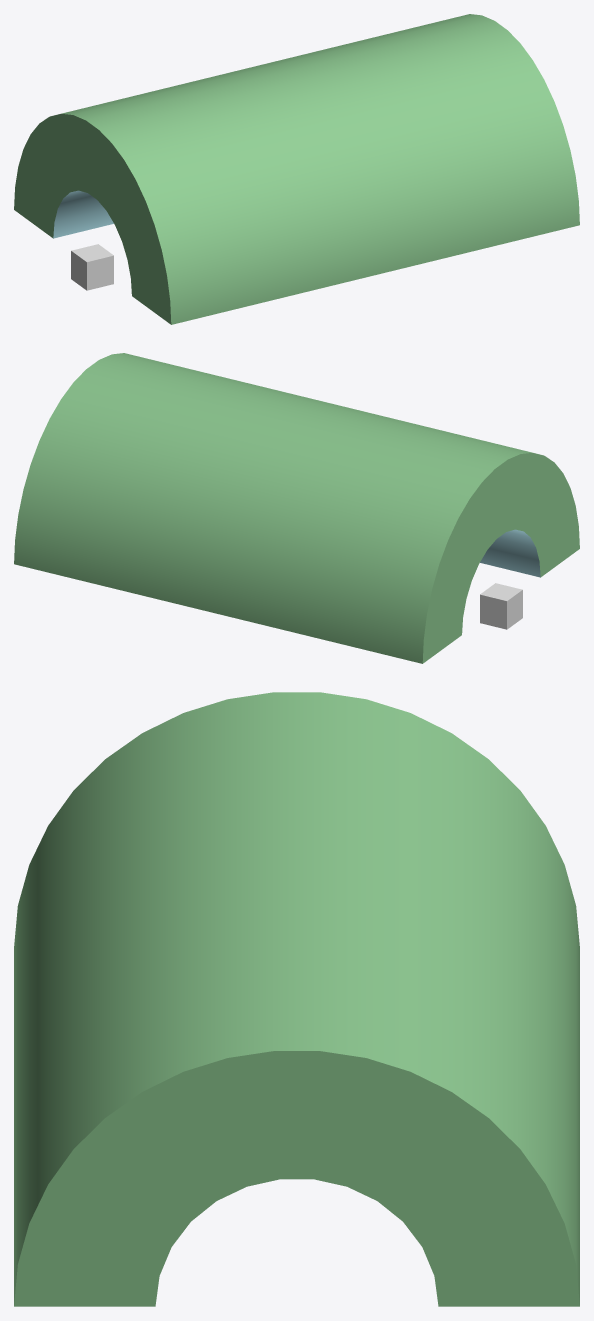
File: FuncionFo.glb
3 views of the same model, one above another, from view 1: azimuth 30°, elevation 25°; view 2: azimuth 150°, elevation 25°; view 3: azimuth 270°, elevation 25° (orthographic). The views are drawn at different scales.
Parts seen in each view (by area): view 1: FuncionFO, Cube; view 2: FuncionFO, Cube; view 3: FuncionFO.
Boxes of the visible parts, x1=… form: FuncionFO: x1=14, y1=14, x2=579, y2=324; Cube: x1=71, y1=244, x2=113, y2=290; FuncionFO: x1=14, y1=353, x2=579, y2=663; Cube: x1=480, y1=583, x2=522, y2=629; FuncionFO: x1=14, y1=692, x2=579, y2=1306.
Size of the model in its own units: 31 by 10.97 by 20.
